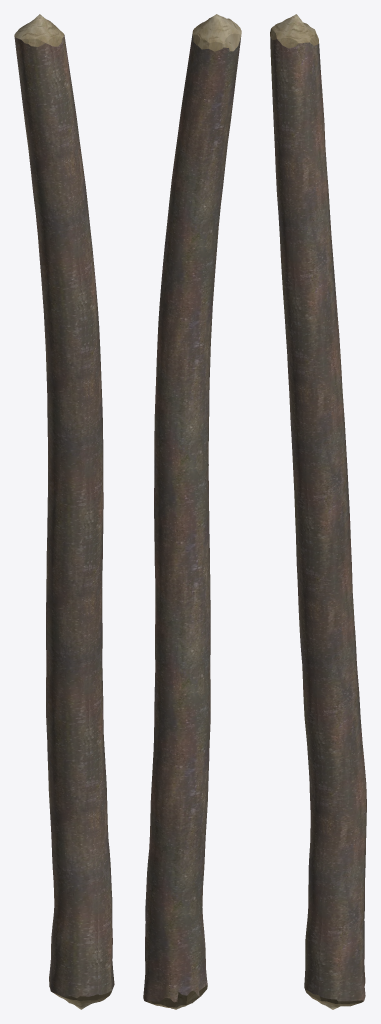
The picture shows the model from 3 angles, left to right: view 1: azimuth 30°, elevation 25°; view 2: azimuth 210°, elevation 25°; view 3: azimuth 330°, elevation 25°; orthographic projection.
Visible parts, largest first — view 1: SM_BM_Ash_Tree_01_full_LOD0; view 2: SM_BM_Ash_Tree_01_full_LOD0; view 3: SM_BM_Ash_Tree_01_full_LOD0.
Boxes of the visible parts, x1,y1,x2,y2 form: SM_BM_Ash_Tree_01_full_LOD0: (14, 14, 114, 1009); SM_BM_Ash_Tree_01_full_LOD0: (143, 14, 241, 1009); SM_BM_Ash_Tree_01_full_LOD0: (270, 14, 366, 1009).
Bounding box in the file's own units: 0.8889 × 9.08 × 0.6312.
Materials: 1 (1 with a texture image).
